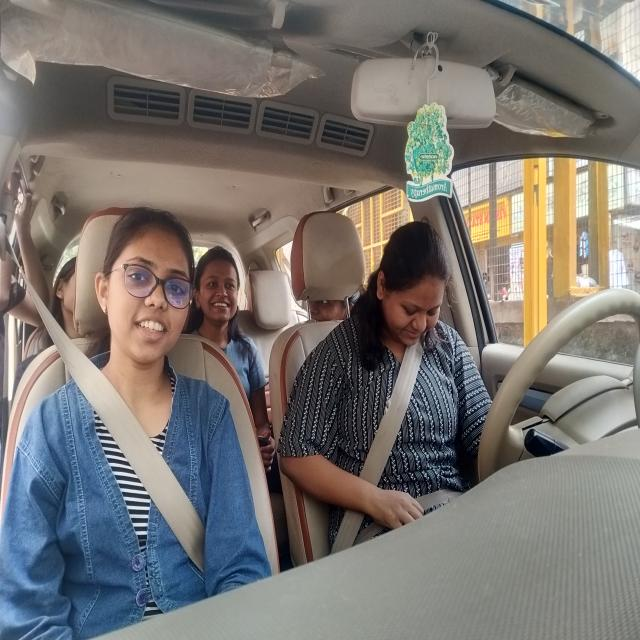drowsy: (374, 222, 447, 333)
person: (101, 214, 196, 368), (202, 248, 241, 345), (48, 262, 82, 334), (306, 300, 353, 318)
